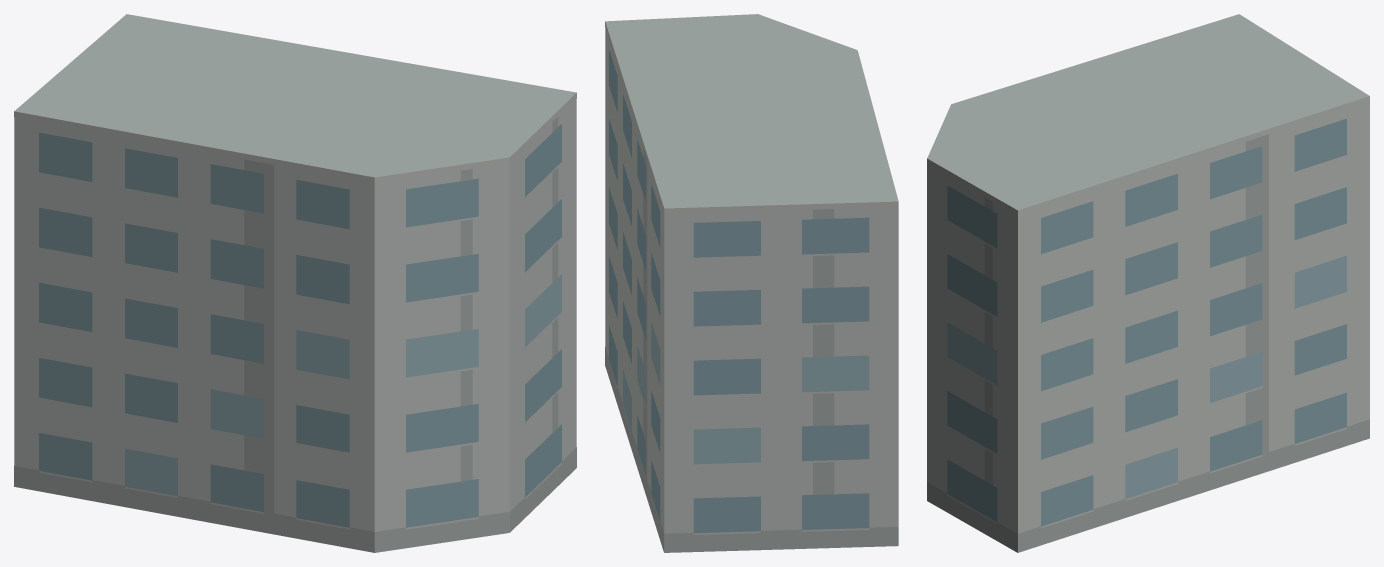
File: survey-upis-32979904.glb
The picture shows the model from 3 angles, left to right: view 1: azimuth 30°, elevation 25°; view 2: azimuth 150°, elevation 25°; view 3: azimuth 270°, elevation 25°; orthographic projection. The views are drawn at different scales.
Visible parts, largest first — view 1: survey-upis-32979904.tmp; view 2: survey-upis-32979904.tmp; view 3: survey-upis-32979904.tmp.
Boxes of the visible parts, x1=… form: survey-upis-32979904.tmp: x1=14, y1=14, x2=576, y2=552; survey-upis-32979904.tmp: x1=605, y1=14, x2=898, y2=552; survey-upis-32979904.tmp: x1=927, y1=14, x2=1369, y2=552.
Bounding box in the file's own units: 18.77 × 15.25 × 17.88.
